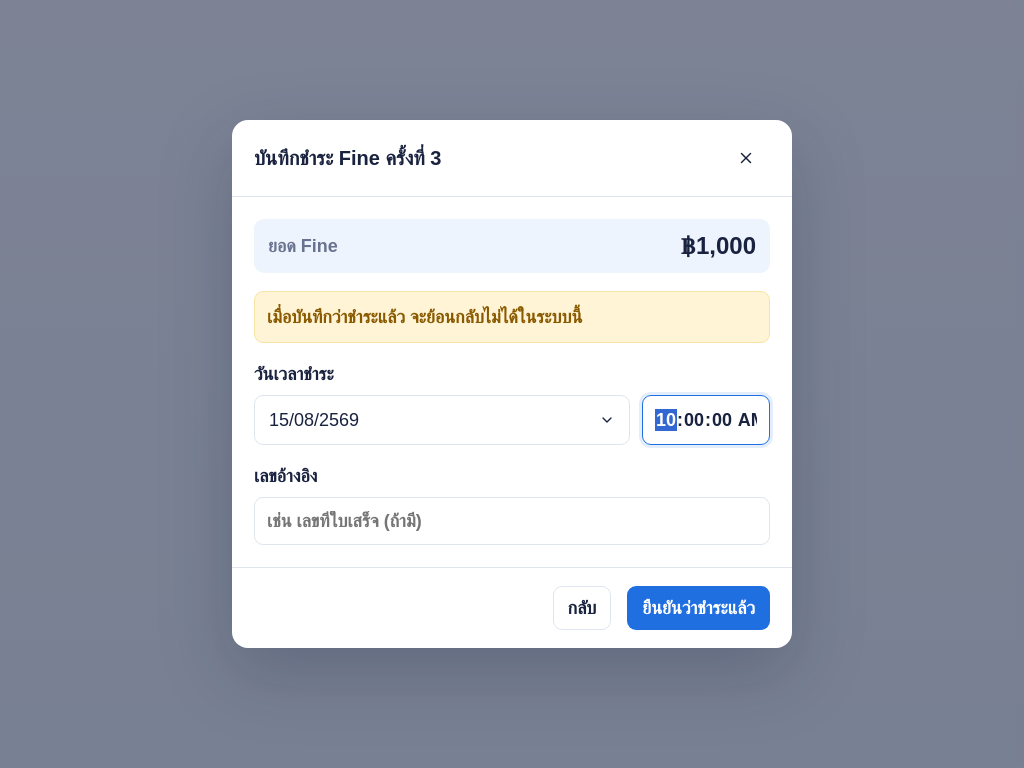
MarkFinePaidModal › keeps the modal open after a domain error
Click the button "ยืนยันว่าชำระแล้ว".
click(699, 608)  # box [627,586,770,630]
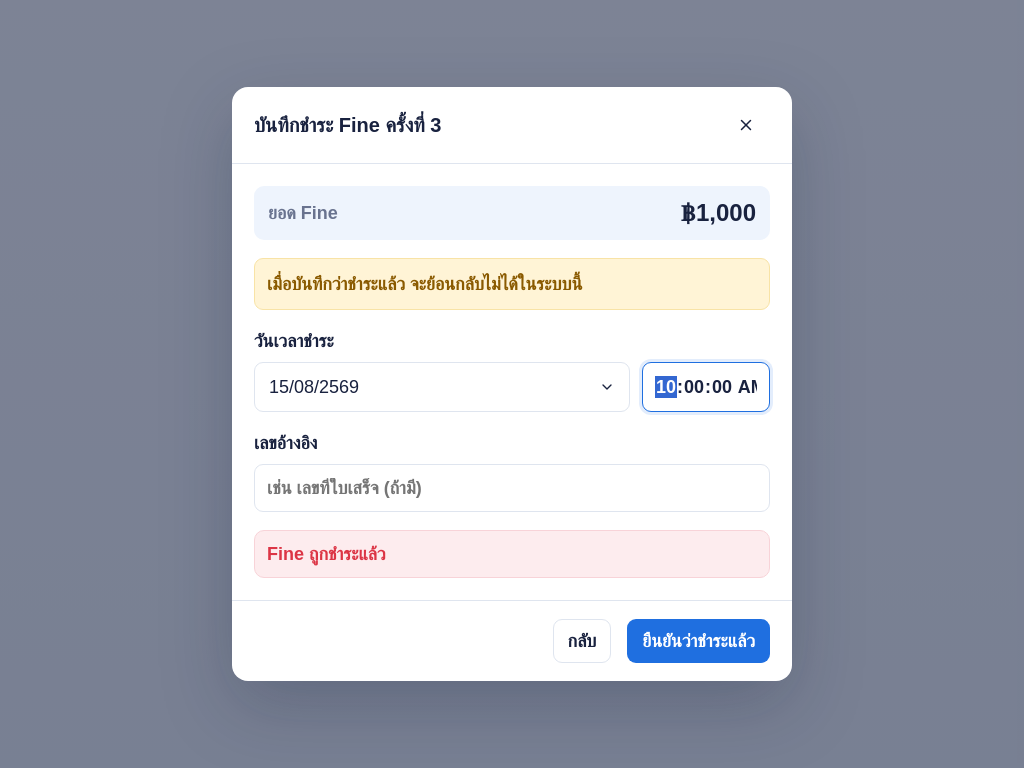
Check: the dialog is shown, box [232,87,792,681]
Check: the text "Fine ถูกชำระแล้ว" is shown, box [254,530,770,578]
